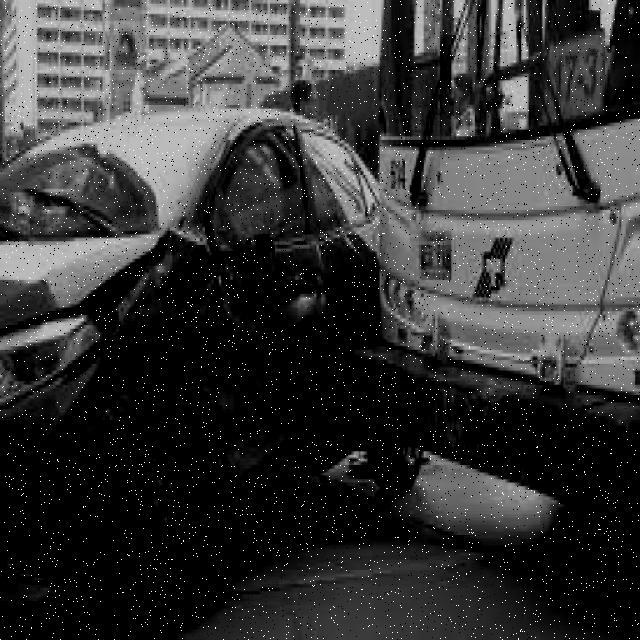car damage: (0, 0, 329, 103)
